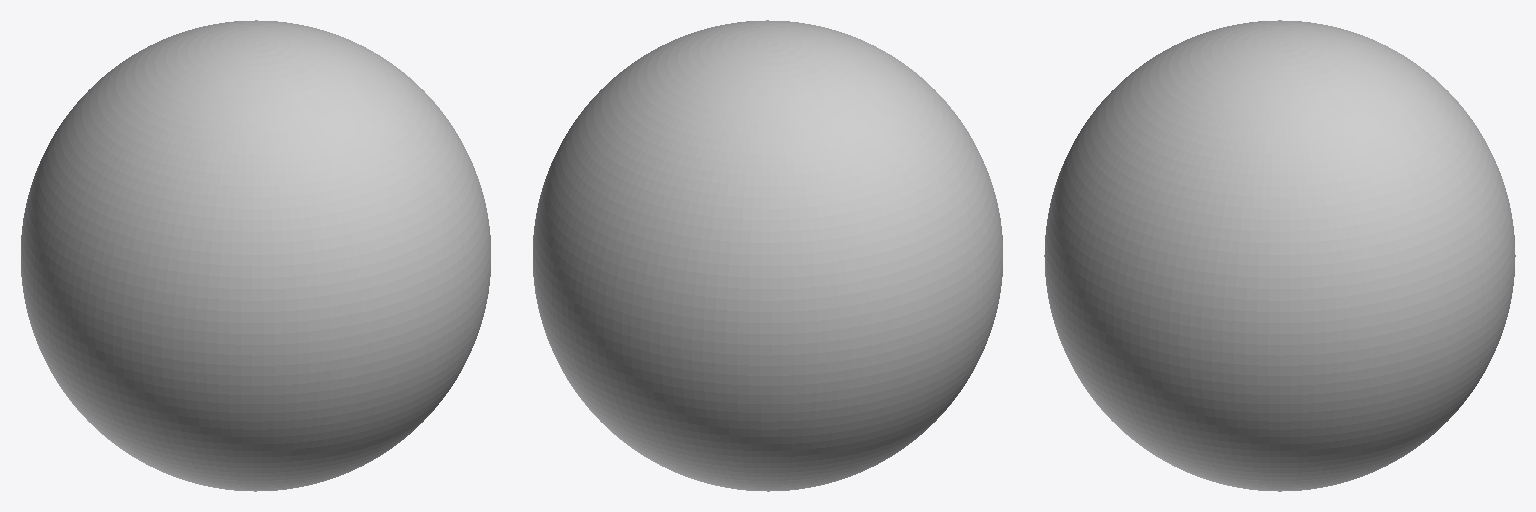
Rendered from Venus.obj.
3 views of the same model, side by side, from view 1: azimuth 30°, elevation 25°; view 2: azimuth 150°, elevation 25°; view 3: azimuth 270°, elevation 25° (orthographic).
Visible parts, largest first — view 1: Esfera; view 2: Esfera; view 3: Esfera.
Part boxes in pixels (bbox=[...]): Esfera: bbox=[21, 20, 490, 491]; Esfera: bbox=[533, 20, 1002, 491]; Esfera: bbox=[1044, 20, 1515, 491].
Bounding box in the file's own units: 2 × 2 × 2.